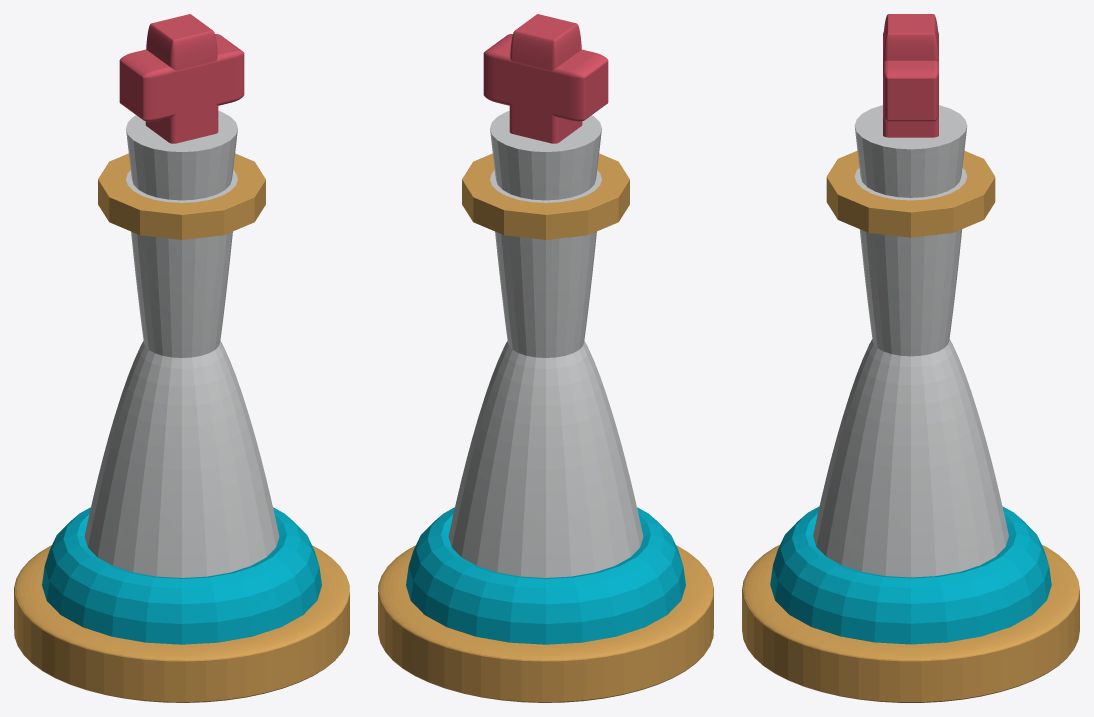
Rendered from king.glb.
The picture shows the model from 3 angles, left to right: view 1: azimuth 30°, elevation 25°; view 2: azimuth 150°, elevation 25°; view 3: azimuth 270°, elevation 25°; orthographic projection.
Parts seen in each view (by area): view 1: Mesh_Mesh_head_geo.001_lambert2SG.001; view 2: Mesh_Mesh_head_geo.001_lambert2SG.001; view 3: Mesh_Mesh_head_geo.001_lambert2SG.001.
Part boxes in pixels (x1=…): Mesh_Mesh_head_geo.001_lambert2SG.001: x1=14, y1=14, x2=349, y2=702; Mesh_Mesh_head_geo.001_lambert2SG.001: x1=378, y1=14, x2=713, y2=702; Mesh_Mesh_head_geo.001_lambert2SG.001: x1=742, y1=14, x2=1079, y2=702.
Bounding box in the file's own units: 11.98 × 24 × 12.
